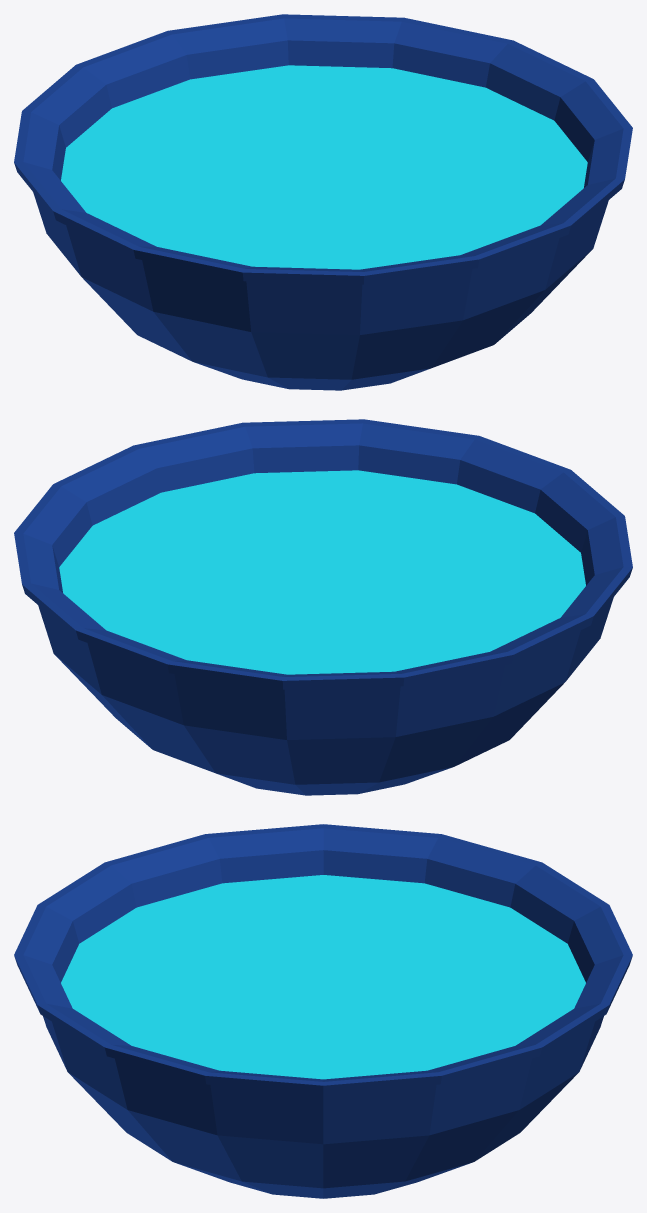
The model's file is Lebensbrunnen_01.fbx.
3 renders of one model, top to bottom at view 1: azimuth 30°, elevation 25°; view 2: azimuth 150°, elevation 25°; view 3: azimuth 270°, elevation 25°, orthographic.
Visible parts, largest first — view 1: Cube, Cube.001; view 2: Cube, Cube.001; view 3: Cube, Cube.001.
Boxes of the visible parts, x1=… form: Cube: x1=14, y1=14, x2=632, y2=390; Cube.001: x1=61, y1=65, x2=587, y2=269; Cube: x1=14, y1=419, x2=632, y2=795; Cube.001: x1=59, y1=470, x2=585, y2=674; Cube: x1=14, y1=824, x2=632, y2=1198; Cube.001: x1=61, y1=875, x2=585, y2=1079.
Size of the model in its own units: 228 by 76.35 by 228.
